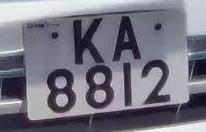1: (115, 56, 139, 112)
2: (134, 56, 178, 108)
8: (78, 60, 123, 115), (44, 60, 84, 119)
A: (109, 11, 145, 67)
K: (67, 13, 112, 69)
